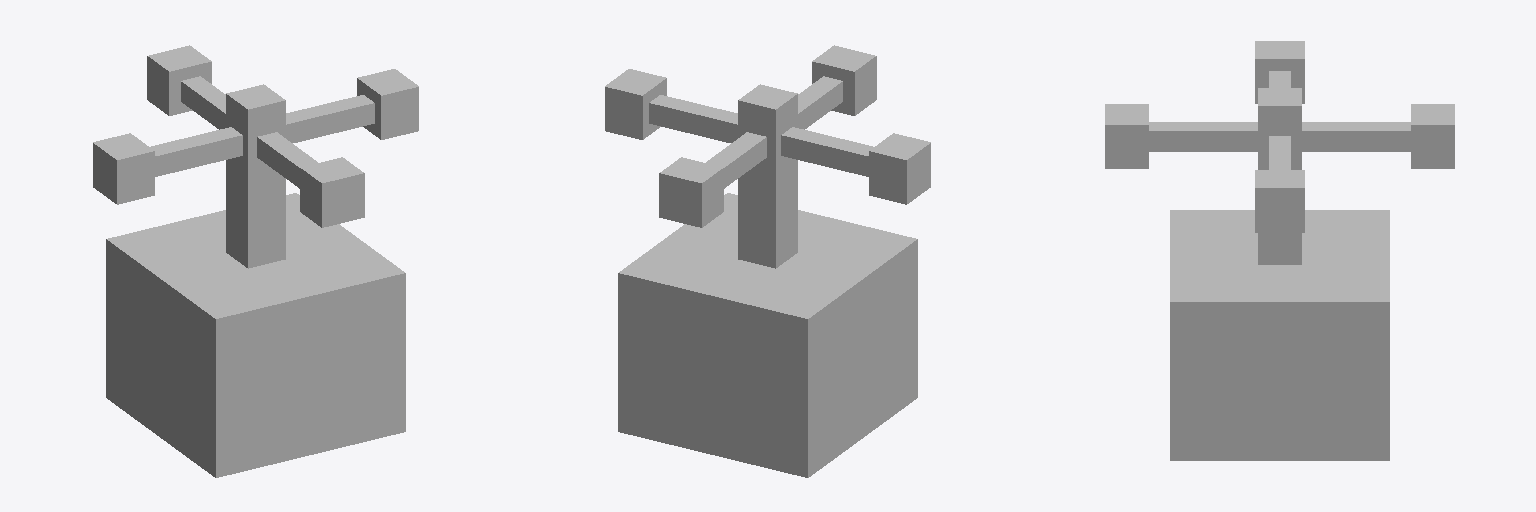
Rendered from ss_chunk_loader.obj.
3 renders of one model, left to right at view 1: azimuth 30°, elevation 25°; view 2: azimuth 150°, elevation 25°; view 3: azimuth 270°, elevation 25°, orthographic.
Visible parts, largest first — view 1: clbody, clspinner; view 2: clbody, clspinner; view 3: clbody, clspinner.
Part boxes in pixels (bbox=[...]): clbody: bbox=[106, 193, 405, 477]; clspinner: bbox=[93, 45, 418, 268]; clbody: bbox=[618, 193, 917, 477]; clspinner: bbox=[605, 45, 930, 268]; clbody: bbox=[1170, 210, 1389, 460]; clspinner: bbox=[1105, 41, 1454, 264].
Bounding box in the file's own units: 0.995 × 1 × 0.995.